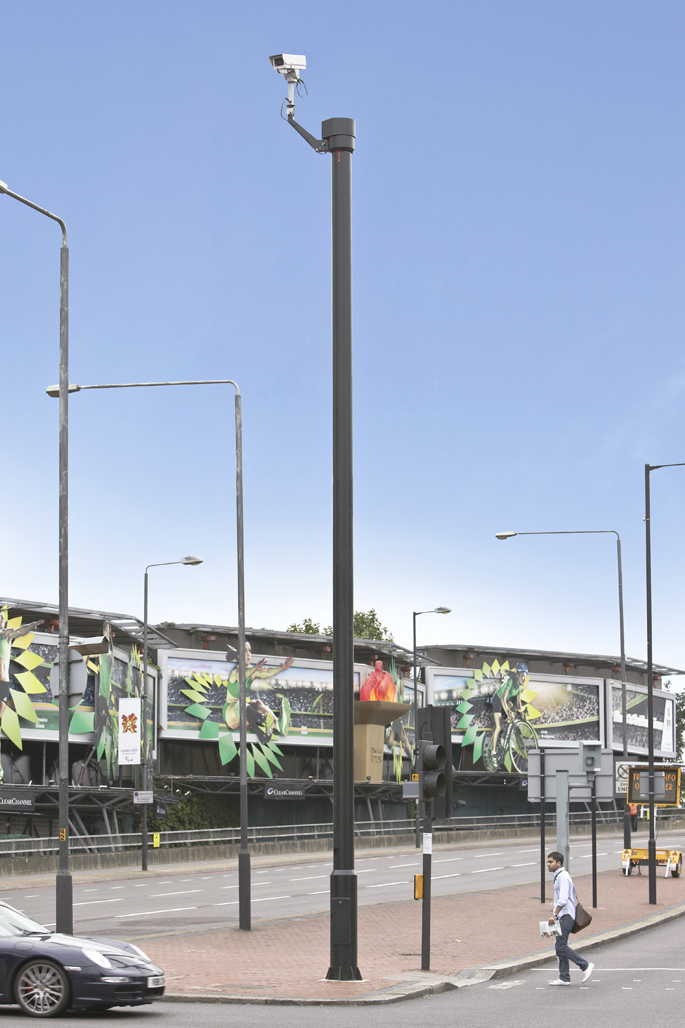pole: (256, 54, 390, 984), (25, 245, 99, 946), (207, 399, 273, 933), (616, 454, 677, 912), (390, 598, 461, 975), (591, 533, 643, 879), (129, 554, 168, 873), (525, 743, 557, 910), (586, 769, 609, 911)
